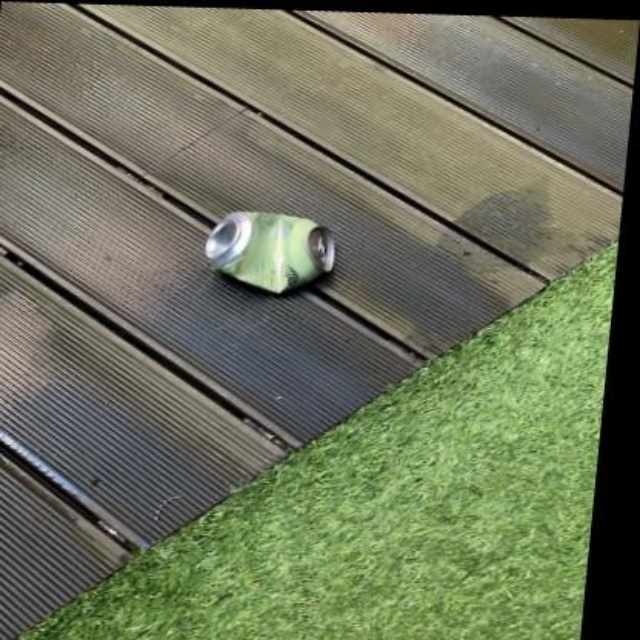trash: (206, 212, 334, 292)
